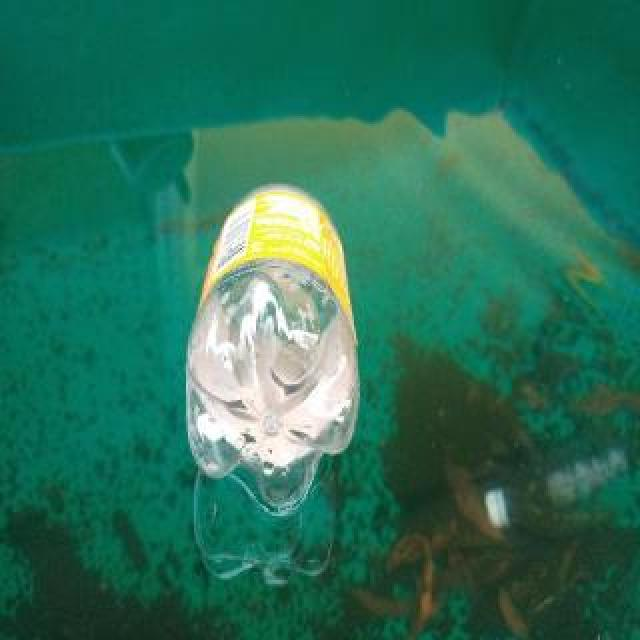Bottle: (175, 174, 376, 524)
